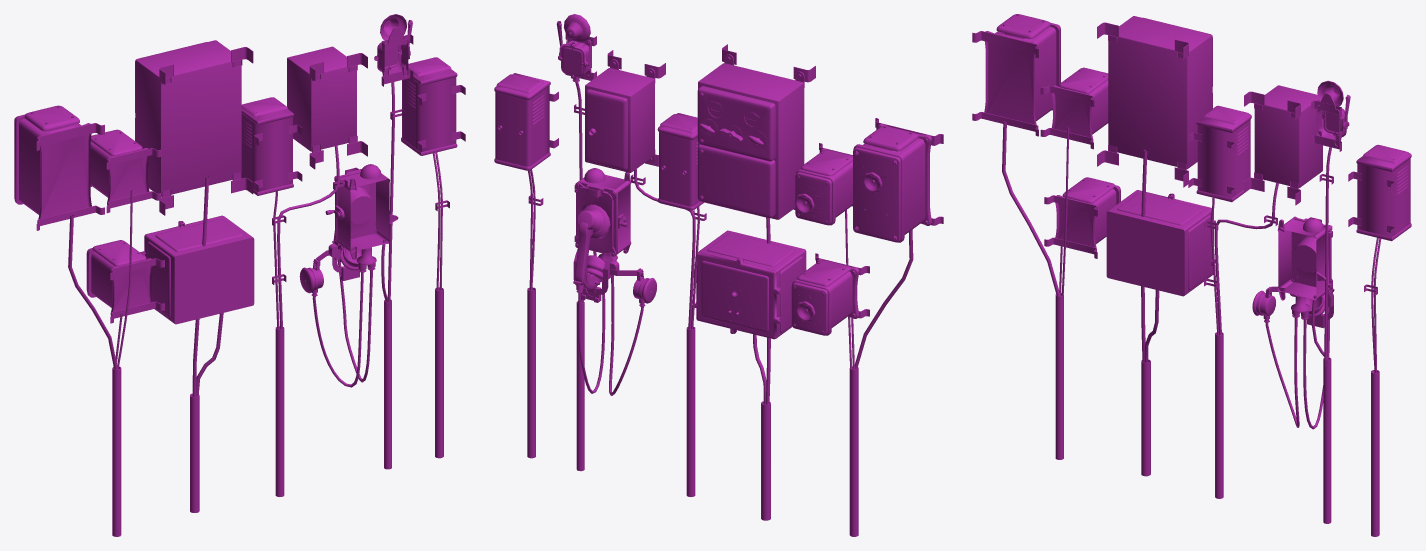
Rendered from Engine16.fbx.
The picture shows the model from 3 angles, left to right: view 1: azimuth 30°, elevation 25°; view 2: azimuth 150°, elevation 25°; view 3: azimuth 330°, elevation 25°; orthographic projection. The views are drawn at different scales.
Visible parts, largest first — view 1: Stuf3.002; view 2: Stuf3.002; view 3: Stuf3.002.
Boxes of the visible parts, x1,y1,x2,y2 form: Stuf3.002: (14,14,465,536); Stuf3.002: (494,14,943,536); Stuf3.002: (972,14,1411,536).
Bounding box in the file's own units: 227 × 230 × 40.49.
